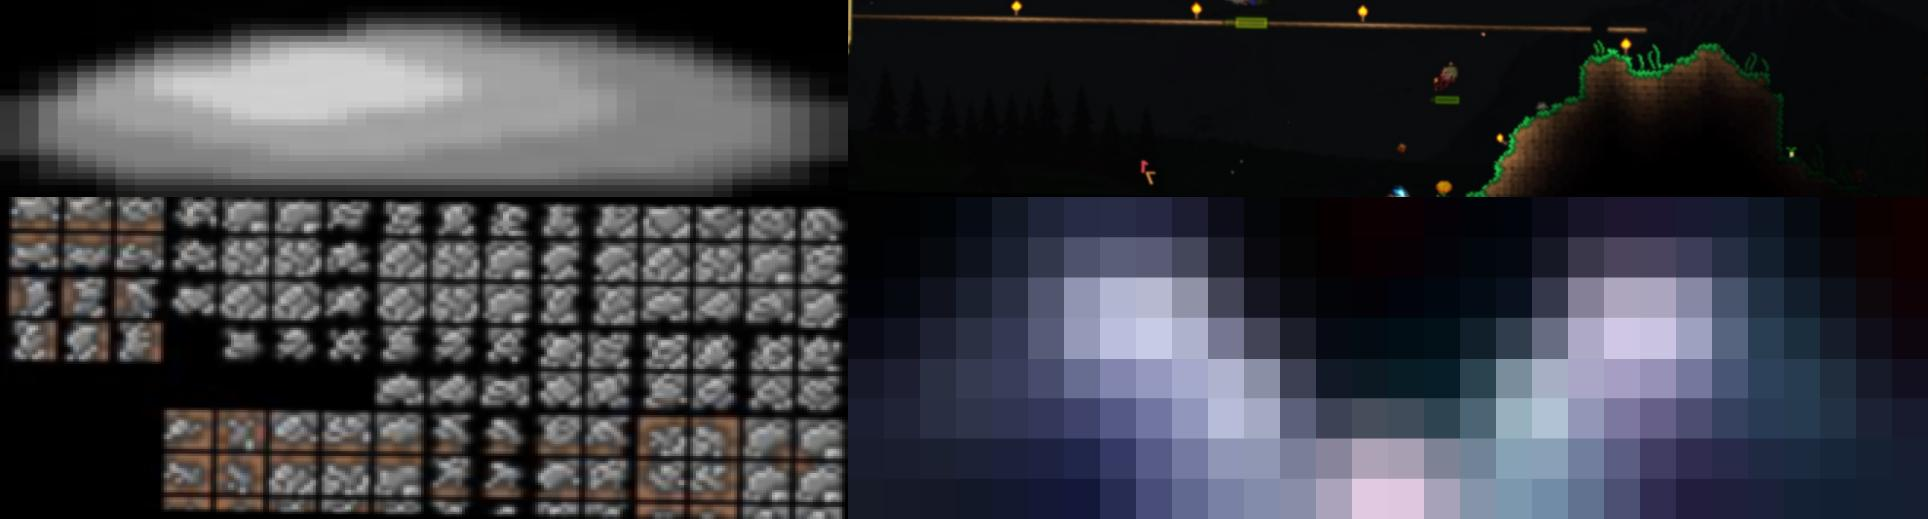breastplate: (848, 197, 1928, 519)
slime: (0, 0, 848, 197)
stone: (796, 209, 847, 244)
